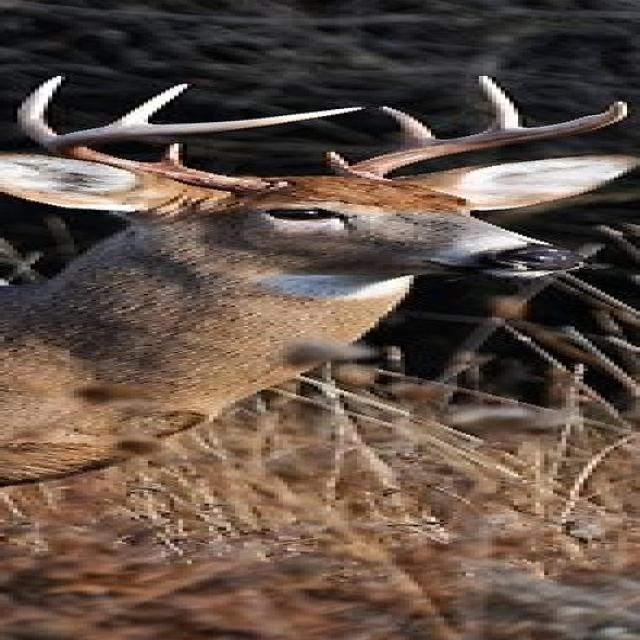L-G1: (324, 151, 350, 172)
L-G2: (379, 106, 439, 146)
L-G3: (476, 75, 522, 132)
R-F: (43, 106, 366, 201)
R-G1: (156, 143, 186, 167)
R-G2: (16, 76, 68, 147)
R-G3: (106, 83, 193, 127)
